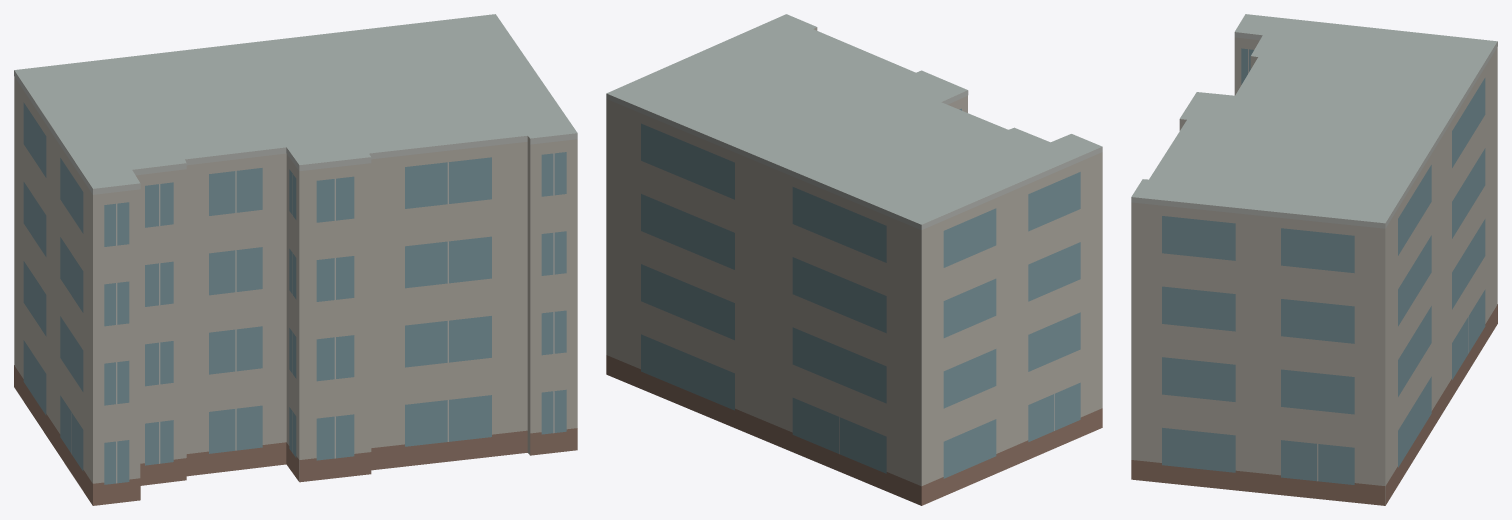
File: survey-upis-33031456.glb
The picture shows the model from 3 angles, left to right: view 1: azimuth 30°, elevation 25°; view 2: azimuth 150°, elevation 25°; view 3: azimuth 270°, elevation 25°; orthographic projection. The views are drawn at different scales.
Parts seen in each view (by area): view 1: survey-upis-33031456.tmp; view 2: survey-upis-33031456.tmp; view 3: survey-upis-33031456.tmp.
Part boxes in pixels (box(x1,y1,x2,y2)): survey-upis-33031456.tmp: box(14, 14, 577, 505); survey-upis-33031456.tmp: box(606, 14, 1102, 505); survey-upis-33031456.tmp: box(1131, 14, 1497, 505).
Size of the model in its own units: 20.35 by 12.8 by 15.05.
